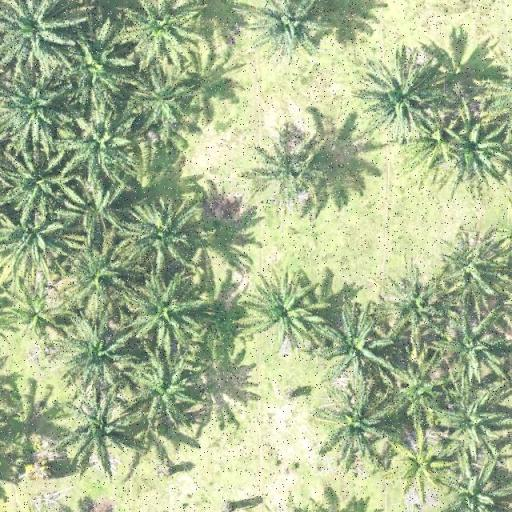Ganoderma: (399, 445, 443, 485), (16, 298, 52, 332)
